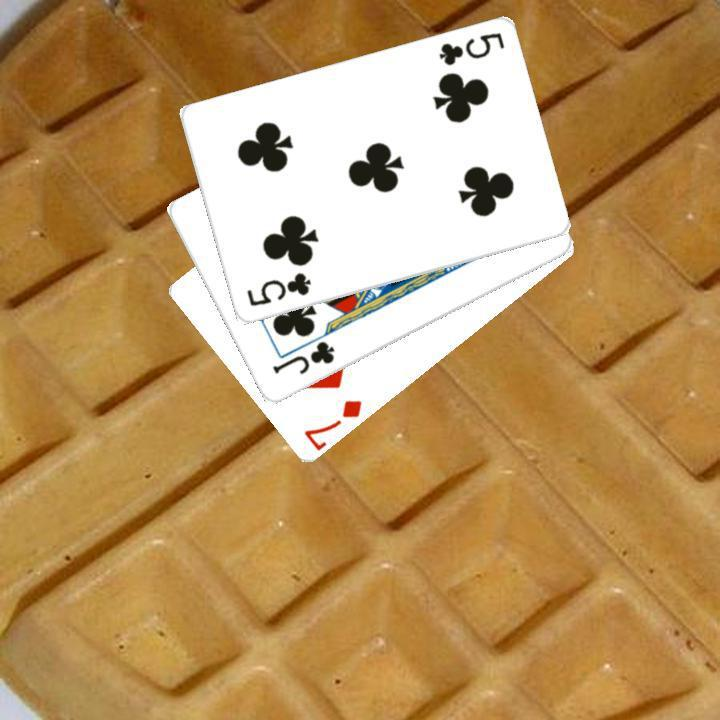5: (433, 28, 506, 68), (242, 268, 313, 309)
7: (299, 396, 365, 451)
J: (268, 337, 337, 377)
